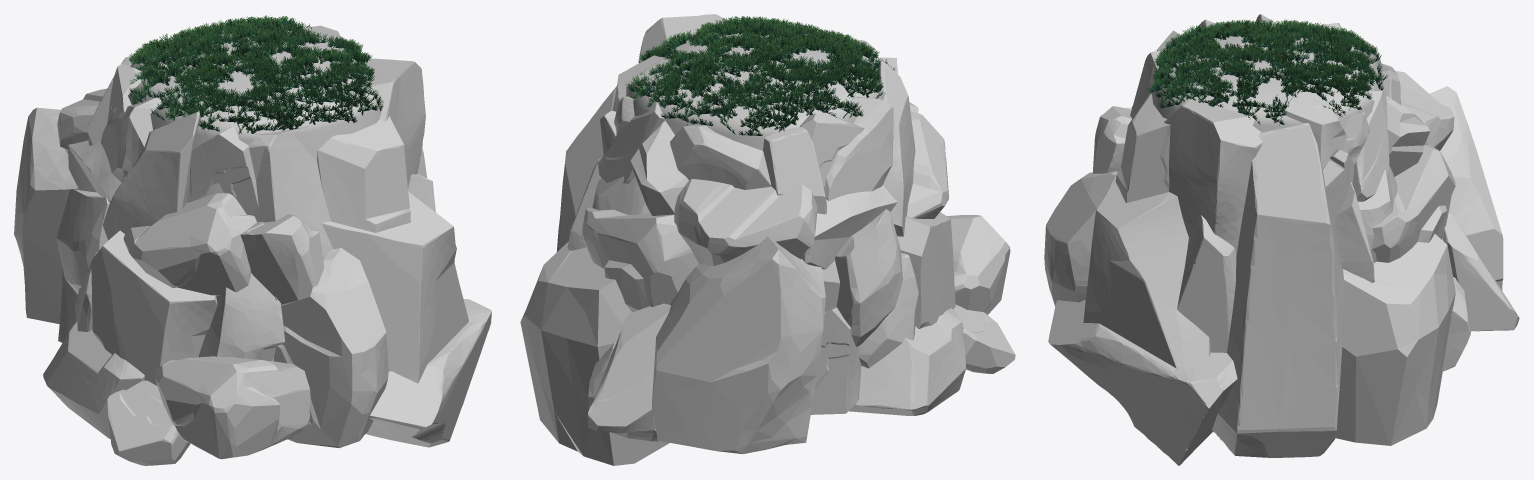
Rendered from sm_uv_2x_terrace2.fbx.
The picture shows the model from 3 angles, left to right: view 1: azimuth 30°, elevation 25°; view 2: azimuth 150°, elevation 25°; view 3: azimuth 270°, elevation 25°; orthographic projection. The views are drawn at different scales.
Visible parts, largest first — view 1: sm_grass_terrace2x3:ZBrushPolyMesh3D1; view 2: sm_grass_terrace2x3:ZBrushPolyMesh3D1; view 3: sm_grass_terrace2x3:ZBrushPolyMesh3D1.
Boxes of the visible parts, x1,y1,x2,y2 form: sm_grass_terrace2x3:ZBrushPolyMesh3D1: (14,15,491,465); sm_grass_terrace2x3:ZBrushPolyMesh3D1: (520,14,1015,465); sm_grass_terrace2x3:ZBrushPolyMesh3D1: (1044,14,1519,465).
Size of the model in its own units: 739 by 686 by 834.
